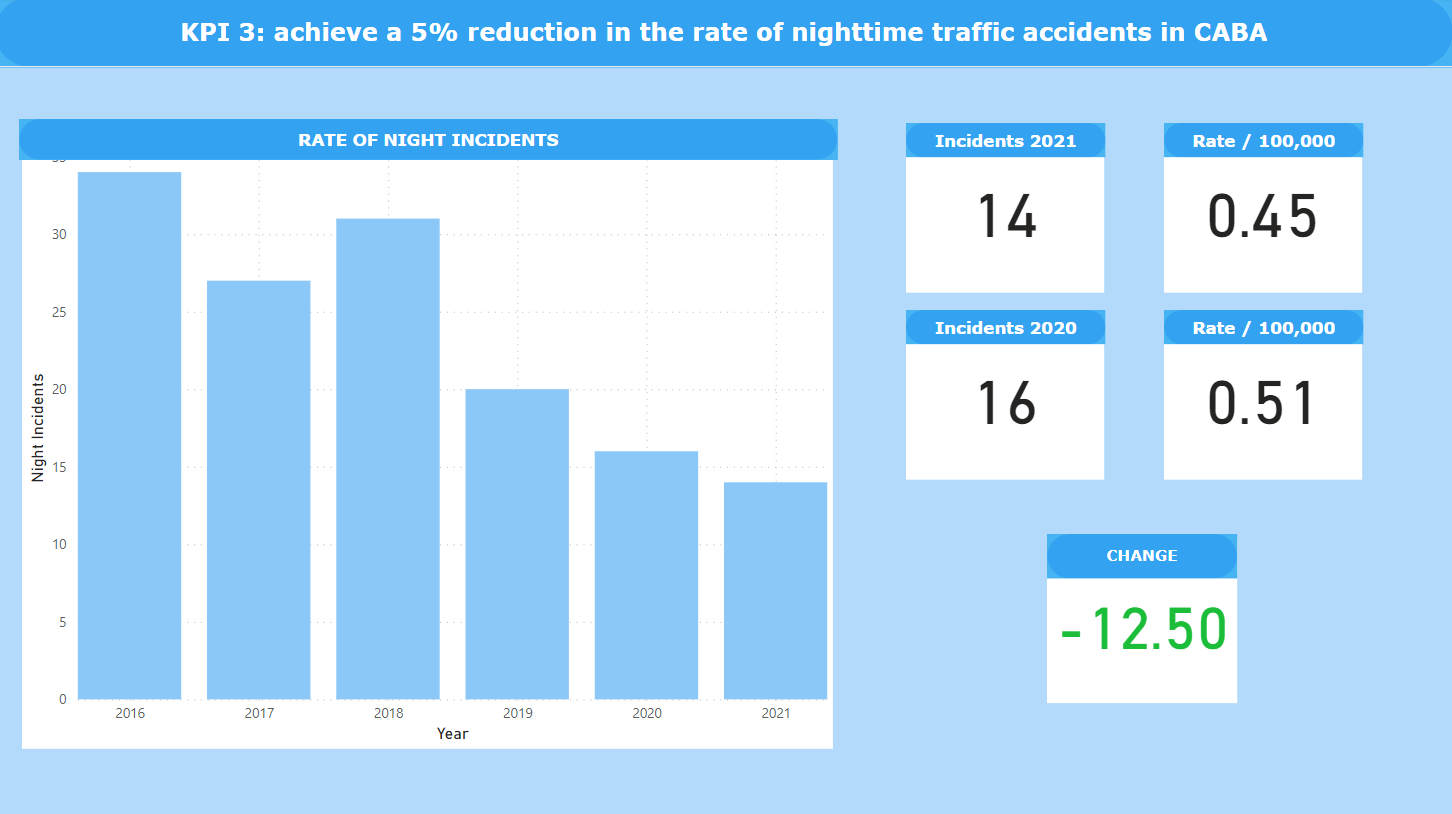

The page's visual inventory and layout, read from the dashboard file:
{"tool":"powerbi","page":{"name":"KPI 3","canvas":[1280,720],"ordinal":3},"visuals":[{"type":"shape","box":[0,0,1280,61.5],"z":0},{"type":"card","fields":{"Values":["combined_dataset2.Nighttime_Accidents_2021"]},"box":[799.9,110.4,174.1,148.5],"z":0,"group":"g1"},{"type":"card","fields":{"Values":["combined_dataset2.Rate_Nighttime_Accidents_2021"]},"box":[1026.2,110.4,174.1,148.5],"z":0,"group":"g4"},{"type":"card","fields":{"Values":["combined_dataset2.Nighttime_Accidents_2020"]},"box":[799.9,275.2,174.1,148.5],"z":0,"group":"g6"},{"type":"card","fields":{"Values":["combined_dataset2.Rate_Nighttime_Accidents_2020"]},"box":[1026.2,275.2,174.1,148.5],"z":0,"group":"g5"},{"type":"card","fields":{"Values":["combined_dataset2.Percentage_Change_Nighttime_Accidents"]},"box":[924.3,474.3,167,144.9],"z":0,"group":"g3"},{"type":"shape","box":[799.8,110.2,175.2,30.2],"z":1000,"group":"g1"},{"type":"shape","box":[1026.1,110.2,175.2,30.2],"z":1000,"group":"g4"},{"type":"shape","box":[799.8,275,175.2,30.2],"z":1000,"group":"g6"},{"type":"shape","box":[1026.1,275,175.2,30.2],"z":1000,"group":"g5"},{"type":"shape","box":[923.9,471.2,167,38.9],"z":1000,"group":"g3"},{"type":"columnChart","title":"fd","fields":{"Category":["combined_dataset2.DATE.Variation.Date Hierarchy.Year"],"Y":["CountNonNull(combined_dataset2.IS_DAYTIME)"]},"box":[24.3,107.1,712.2,552.6],"z":3000,"group":"g2"},{"type":"group","id":"g1","title":"Group 1","box":[799.8,110.2,175.2,148.5],"z":3000},{"type":"shape","box":[21.4,107.1,718.6,35.7],"z":5000,"group":"g2"},{"type":"group","id":"g2","title":"Group 2","box":[21.4,107.1,718.6,552.6],"z":6000},{"type":"group","id":"g3","title":"Group 1","box":[923.9,471.2,167.1,147.4],"z":7000},{"type":"group","id":"g4","title":"Group 1","box":[1026.1,110.2,175.2,148.5],"z":8000},{"type":"group","id":"g5","title":"Group 1","box":[1026.1,275,175.2,148.5],"z":9000},{"type":"group","id":"g6","title":"Group 1","box":[799.8,275,175.2,148.5],"z":10000}]}

Visuals, with their boxes in screenshot pixels (x1, y1, x2, y2), scaled from the page's 1280x720 canvas onto the 1452x814 screenshot:
shape: box=[0, 0, 1451, 70]
card - combined_dataset2.Nighttime_Accidents_2021: box=[907, 125, 1105, 293]
card - combined_dataset2.Rate_Nighttime_Accidents_2021: box=[1164, 125, 1362, 293]
card - combined_dataset2.Nighttime_Accidents_2020: box=[907, 311, 1105, 479]
card - combined_dataset2.Rate_Nighttime_Accidents_2020: box=[1164, 311, 1362, 479]
card - combined_dataset2.Percentage_Change_Nighttime_Accidents: box=[1049, 536, 1238, 700]
shape: box=[907, 125, 1106, 159]
shape: box=[1164, 125, 1363, 159]
shape: box=[907, 311, 1106, 345]
shape: box=[1164, 311, 1363, 345]
shape: box=[1048, 533, 1237, 577]
"fd" columnChart: box=[28, 121, 835, 746]
"Group 1" group: box=[907, 125, 1106, 292]
shape: box=[24, 121, 839, 161]
"Group 2" group: box=[24, 121, 839, 746]
"Group 1" group: box=[1048, 533, 1238, 699]
"Group 1" group: box=[1164, 125, 1363, 292]
"Group 1" group: box=[1164, 311, 1363, 479]
"Group 1" group: box=[907, 311, 1106, 479]
